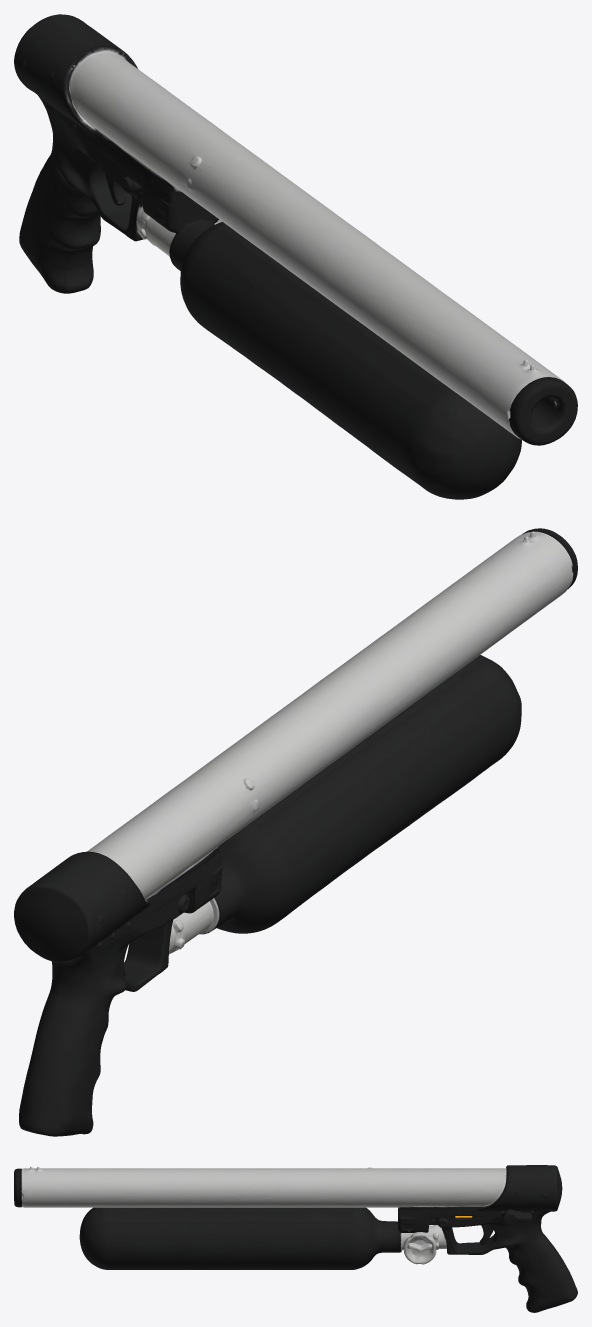
File: pneu.glb
3 views of the same model, one above another, from view 1: azimuth 30°, elevation 25°; view 2: azimuth 150°, elevation 25°; view 3: azimuth 270°, elevation 25° (orthographic). The views are drawn at different scales.
Visible parts, largest first — view 1: tripo_node_dccdd7bb-1de5-4aab-8135-18eeccd32962; view 2: tripo_node_dccdd7bb-1de5-4aab-8135-18eeccd32962; view 3: tripo_node_dccdd7bb-1de5-4aab-8135-18eeccd32962.
Boxes of the visible parts, bbox=[...] form: tripo_node_dccdd7bb-1de5-4aab-8135-18eeccd32962: bbox=[14, 14, 577, 499]; tripo_node_dccdd7bb-1de5-4aab-8135-18eeccd32962: bbox=[14, 528, 577, 1136]; tripo_node_dccdd7bb-1de5-4aab-8135-18eeccd32962: bbox=[14, 1165, 577, 1312].
Size of the model in its own units: 0.1212 by 0.2793 by 1.
1 material, 1 textured.
